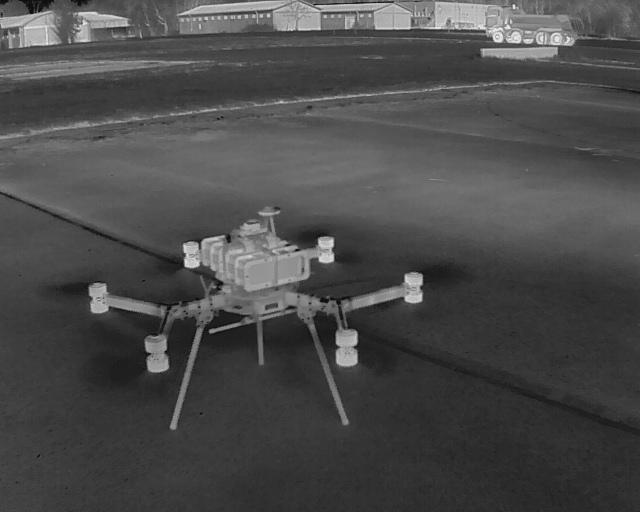drone: (39, 199, 438, 429)
